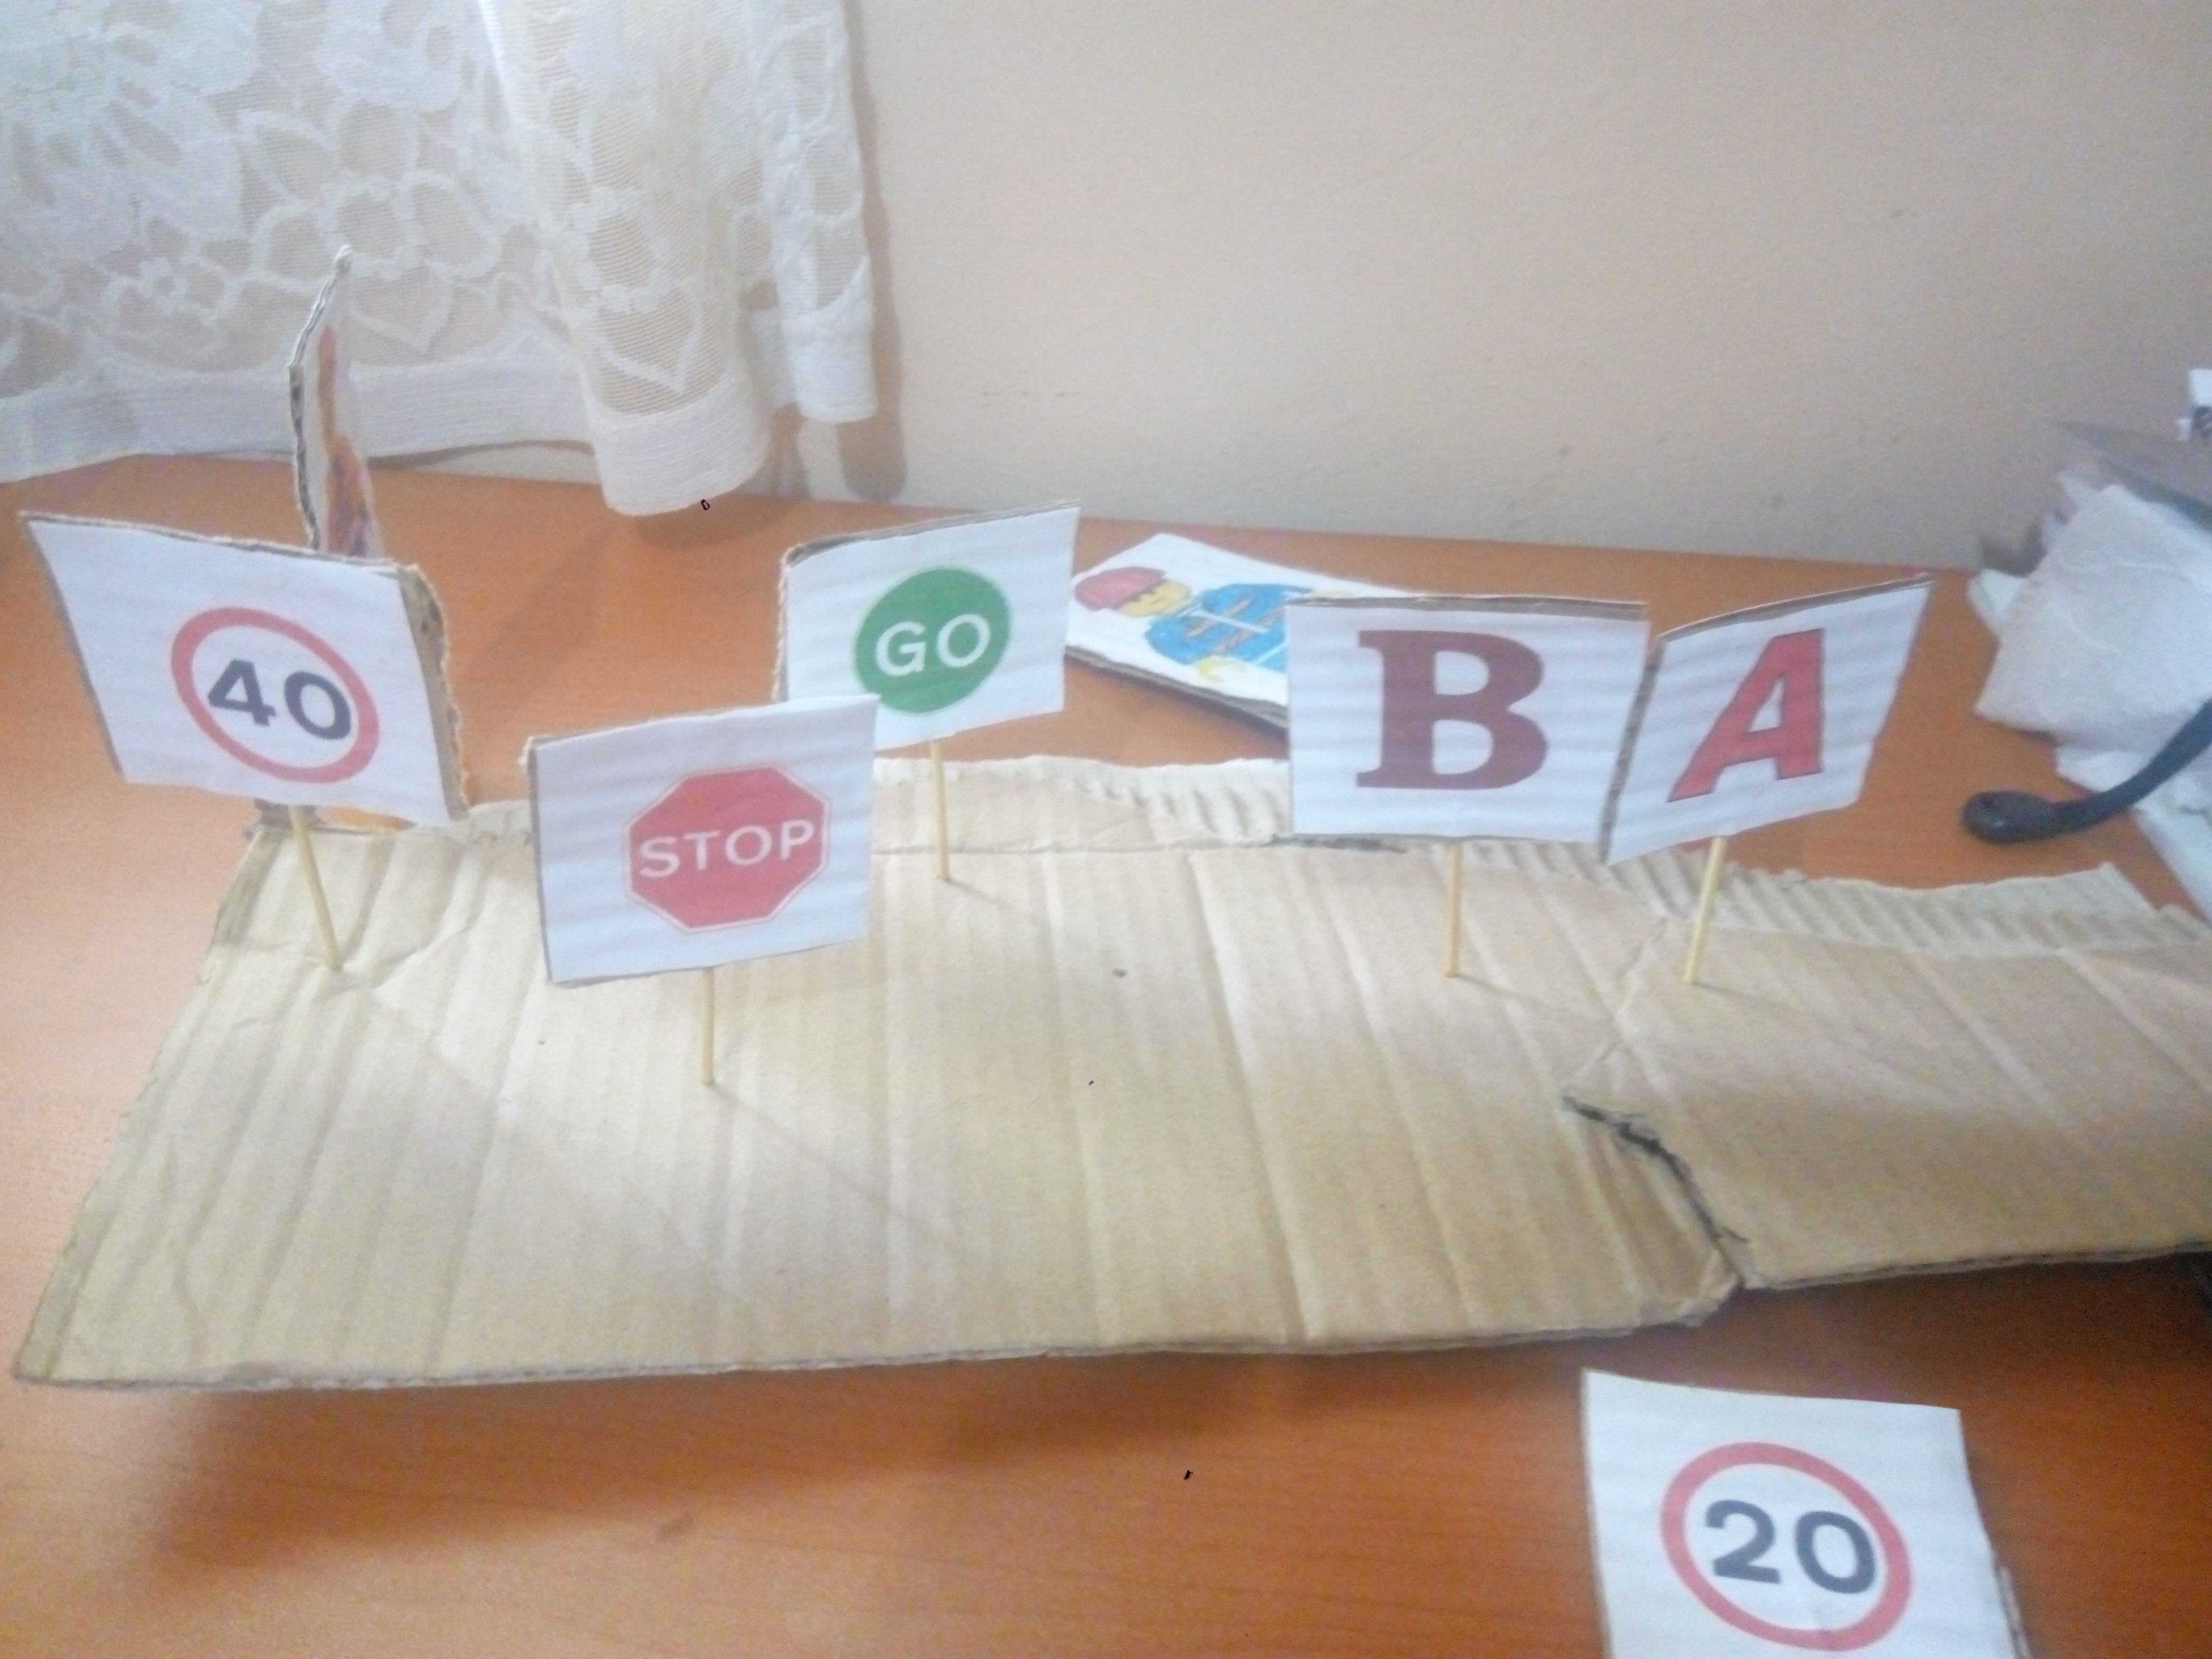20kph: (1656, 1420, 1947, 1659)
40kph: (143, 586, 418, 816)
Go: (838, 545, 1024, 713)
stop: (592, 753, 857, 945)
zone A: (1676, 638, 1883, 850)
zone B: (1322, 606, 1592, 850)
